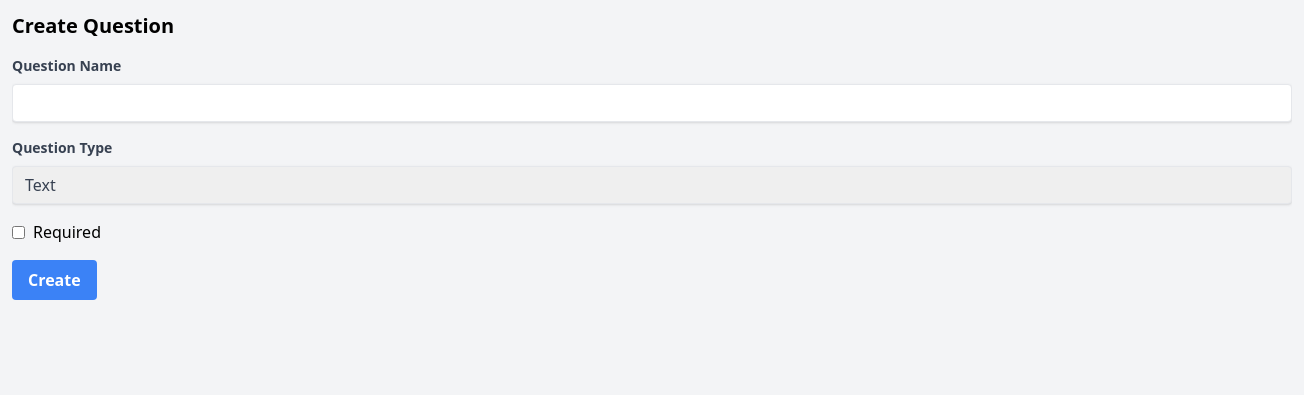
Test: InputCreator Component › shows number validation fields for number type
Select "Number" in the dropdown labelled "Question Type" at (652, 185), box left=12, top=166, right=1292, bottom=204
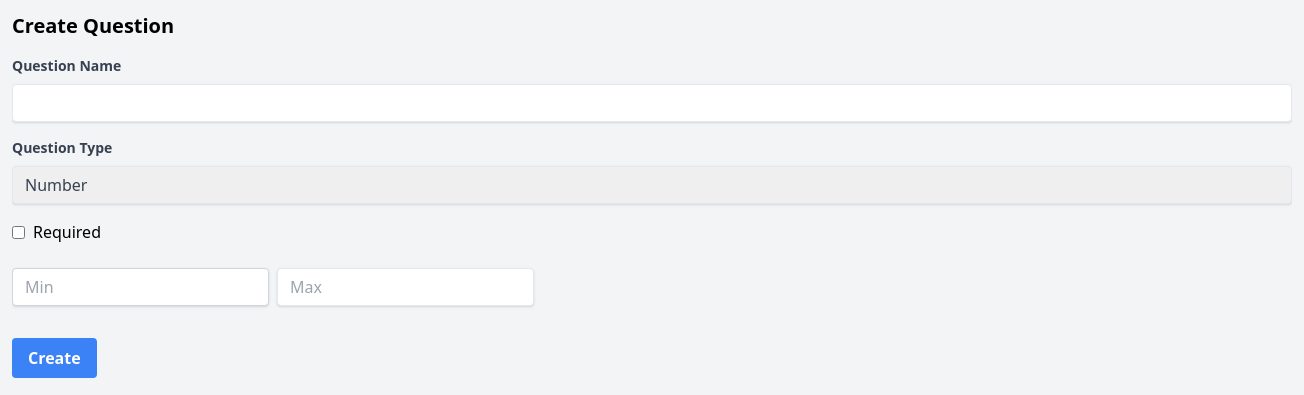
Check: the number field with placeholder "Min" is shown, box left=12, top=268, right=269, bottom=306
Check: the number field with placeholder "Max" is shown, box left=277, top=268, right=534, bottom=306
